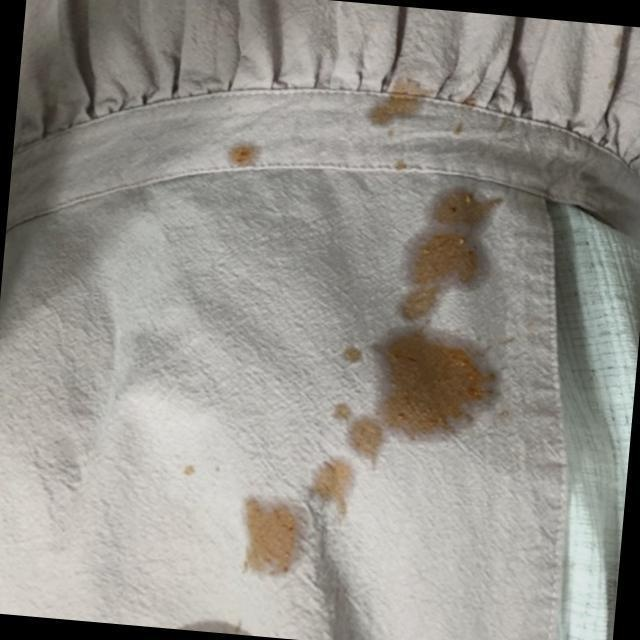kimchi: (306, 186, 520, 459), (225, 462, 368, 586), (361, 68, 492, 175), (215, 131, 272, 184), (175, 457, 195, 480)
